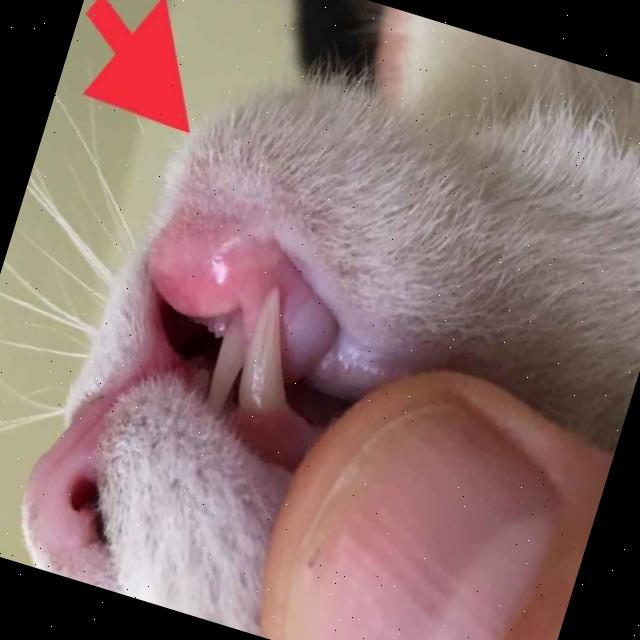cat-ulcer: (159, 218, 283, 325)
